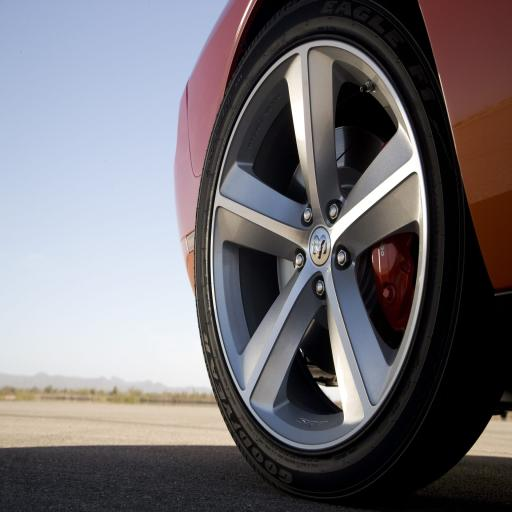wheel: (188, 0, 450, 502)
